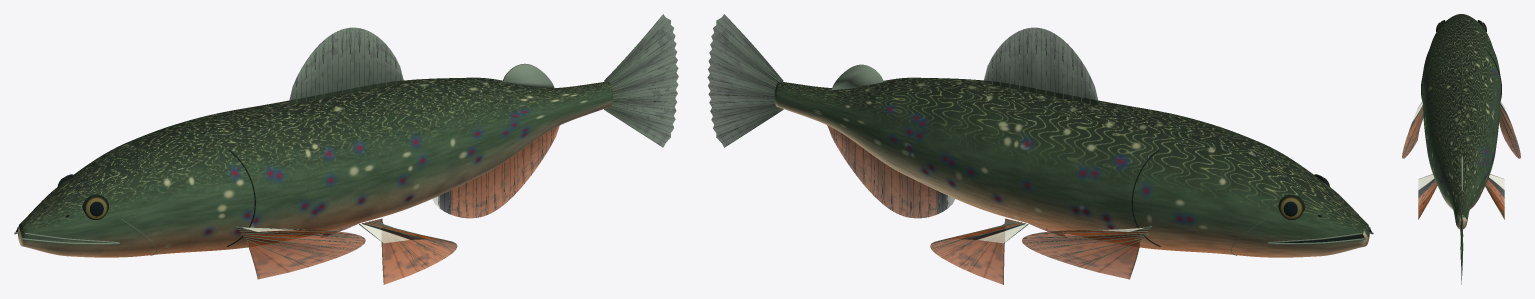
File: brook-trout.glb
3 renders of one model, left to right at view 1: azimuth 30°, elevation 25°; view 2: azimuth 150°, elevation 25°; view 3: azimuth 270°, elevation 25°, orthographic. The views are drawn at different scales.
Parts seen in each view (by area): view 1: brook-trout specimen; view 2: brook-trout specimen; view 3: brook-trout specimen.
Boxes of the visible parts, bbox=[...] form: brook-trout specimen: bbox=[14, 14, 678, 284]; brook-trout specimen: bbox=[707, 14, 1373, 284]; brook-trout specimen: bbox=[1402, 14, 1520, 284].
Size of the model in its own units: 2.33 by 0.791 by 0.5327.
Materials: 10 (5 with a texture image).
